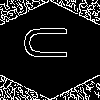U: (25, 25, 78, 61)
